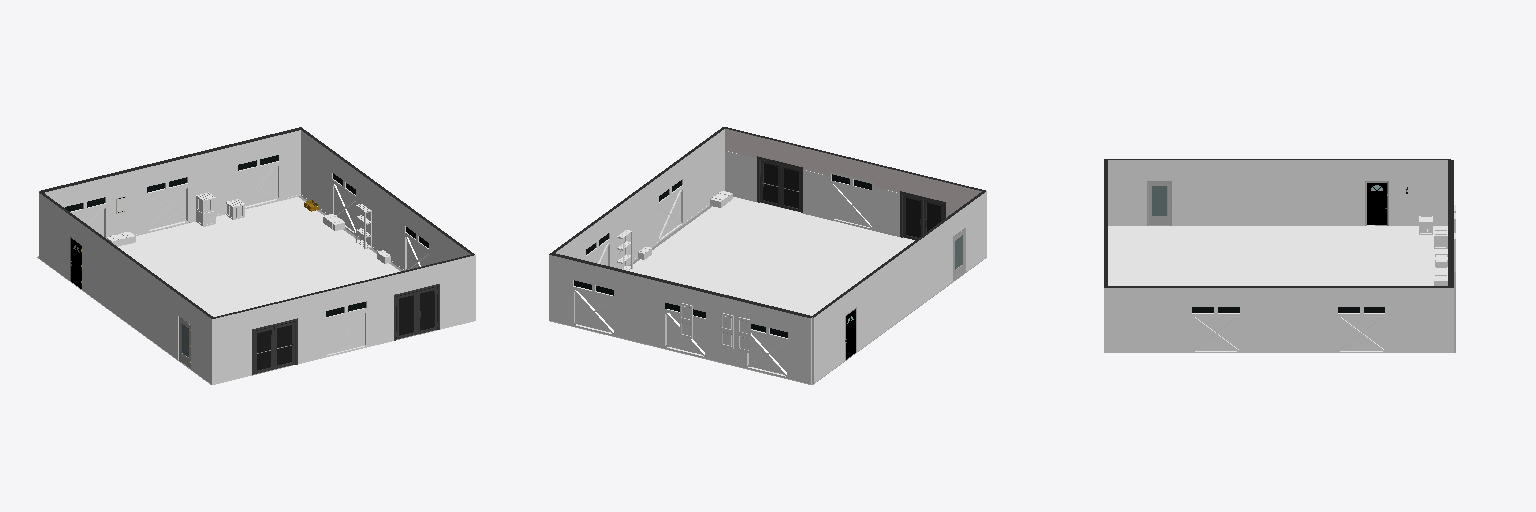
The model's file is SweetHome3DExample17-StudioWithMezzanine.obj.
The picture shows the model from 3 angles: view 1: azimuth 30°, elevation 25°; view 2: azimuth 150°, elevation 25°; view 3: azimuth 270°, elevation 25°; orthographic projection.
Visible parts, largest first — view 1: room_6_37, wall_3_19, wall_2_13, wall_4_26, wall_1_6, wall_5_33, PolyMesh_1_152, PolyMesh_1_148, PolyMesh_1_158, PolyMesh_1_154, PolyMesh_1_156, PolyMesh_1_150 (+2 smaller); view 2: room_6_37, wall_3_19, wall_2_12, wall_1_6, wall_4_27, wall_4_25, PolyMesh_1_158, PolyMesh_1_148, PolyMesh_1_156, PolyMesh_1_152, wall_5_34, PolyMesh_1_150 (+4 smaller); view 3: room_6_37, wall_1_5, wall_3_20, wall_3_18, PolyMesh_1_154, PolyMesh_1_150, sweethome3d_opening_on_hinge_1_Exterior_door_5_PAINT_gloss_black.
Boxes of the visible parts, x1,y1,x2,y2 form: room_6_37: [118, 197, 399, 316]; wall_3_19: [39, 193, 211, 384]; wall_2_13: [45, 130, 300, 236]; wall_4_26: [282, 255, 475, 363]; wall_1_6: [301, 130, 470, 268]; wall_5_33: [212, 303, 281, 384]; PolyMesh_1_152: [145, 175, 188, 233]; PolyMesh_1_148: [324, 299, 367, 357]; PolyMesh_1_158: [237, 153, 280, 208]; PolyMesh_1_154: [331, 170, 356, 235]; PolyMesh_1_156: [64, 195, 107, 238]; PolyMesh_1_150: [404, 223, 429, 270]; room_6_37: [628, 197, 914, 315]; wall_3_19: [812, 191, 986, 383]; wall_2_12: [549, 255, 811, 383]; wall_1_6: [556, 129, 724, 268]; wall_4_27: [725, 129, 914, 194]; wall_4_25: [725, 151, 899, 236]; PolyMesh_1_158: [572, 278, 615, 336]; PolyMesh_1_148: [830, 172, 873, 230]; PolyMesh_1_156: [745, 322, 788, 378]; PolyMesh_1_152: [663, 300, 706, 358]; wall_5_34: [915, 175, 981, 217]; PolyMesh_1_150: [658, 177, 683, 242]; room_6_37: [1108, 225, 1447, 285]; wall_1_5: [1104, 288, 1453, 352]; wall_3_20: [1108, 160, 1447, 197]; wall_3_18: [1108, 198, 1447, 225]; PolyMesh_1_154: [1336, 305, 1386, 352]; PolyMesh_1_150: [1191, 305, 1241, 352]; sweethome3d_opening_on_hinge_1_Exterior_door_5_PAINT_gloss_black: [1367, 183, 1386, 224].
Size of the model in its own units: 1260 by 300 by 1450.